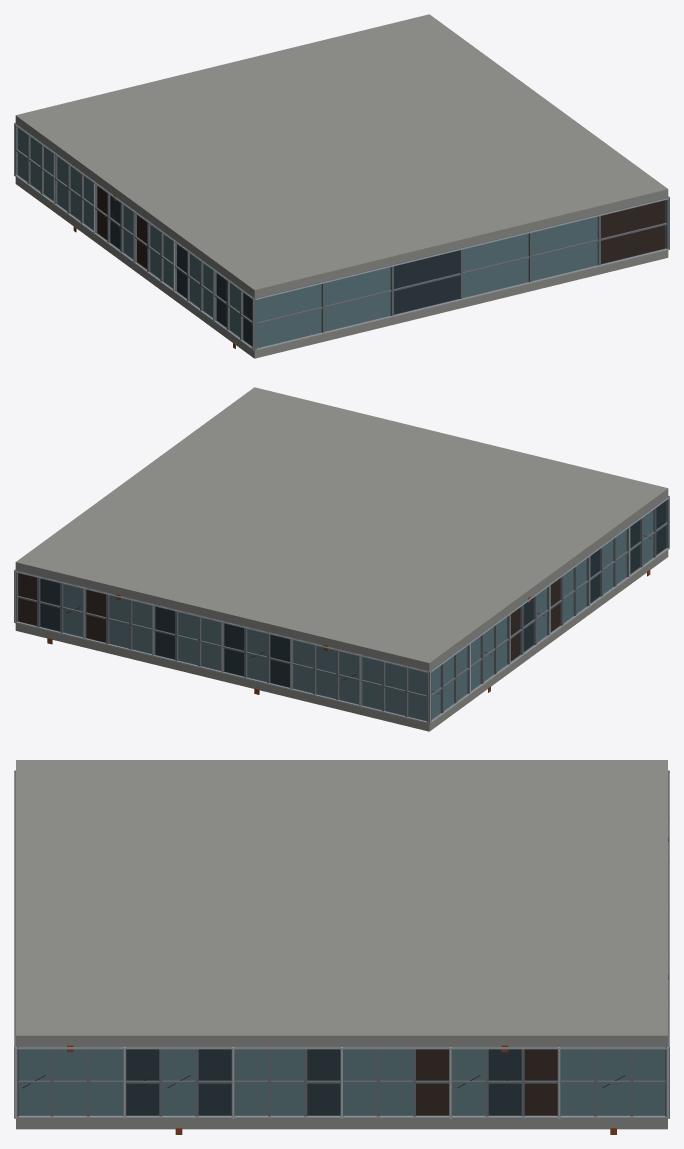
Rendered from tw_glass_24_floor_b.glb.
3 renders of one model, top to bottom at view 1: azimuth 30°, elevation 25°; view 2: azimuth 150°, elevation 25°; view 3: azimuth 270°, elevation 25°, orthographic. The views are drawn at different scales.
Visible parts, largest first — view 1: tw_glass_24_floor_b; view 2: tw_glass_24_floor_b; view 3: tw_glass_24_floor_b.
Part boxes in pixels (left/top/right/bottom): tw_glass_24_floor_b: left=14, top=14, right=669, bottom=358; tw_glass_24_floor_b: left=14, top=387, right=669, bottom=731; tw_glass_24_floor_b: left=14, top=760, right=669, bottom=1134.
Size of the model in its own units: 24.14 by 4.05 by 24.14.
Materials: 3 (3 with a texture image).
